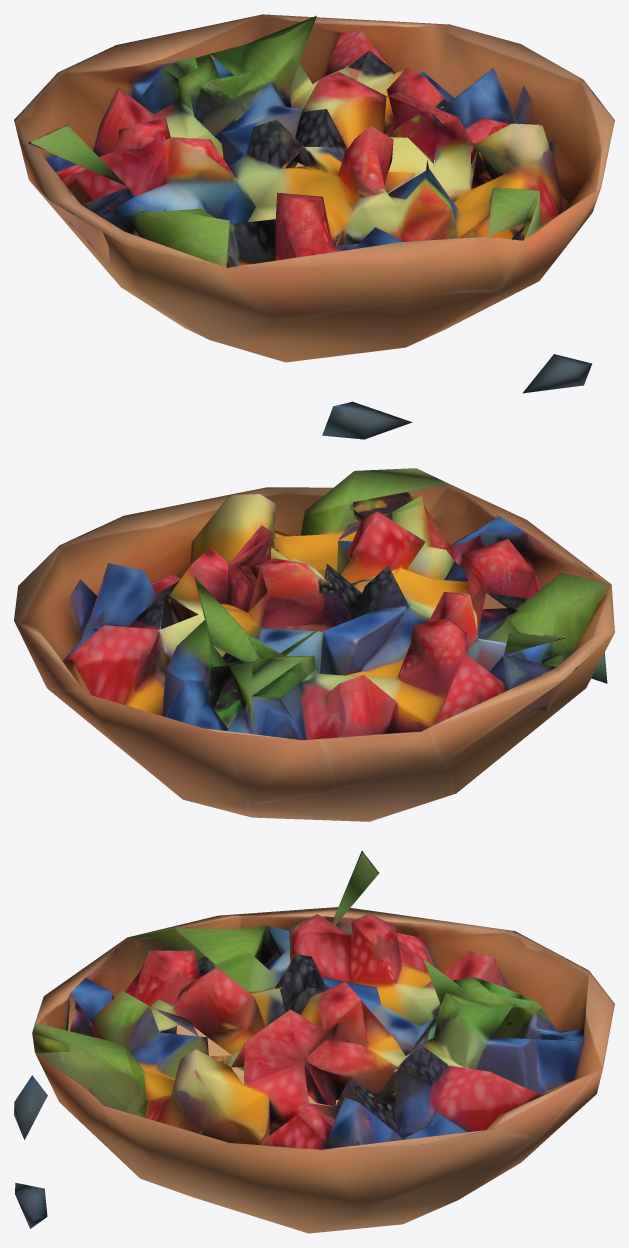
The model's file is food_bowl.glb.
3 views of the same model, one above another, from view 1: azimuth 30°, elevation 25°; view 2: azimuth 150°, elevation 25°; view 3: azimuth 270°, elevation 25° (orthographic). The views are drawn at different scales.
Bounding box in the file's own units: 1.97 × 0.7834 × 2.
1 material, 1 textured.
